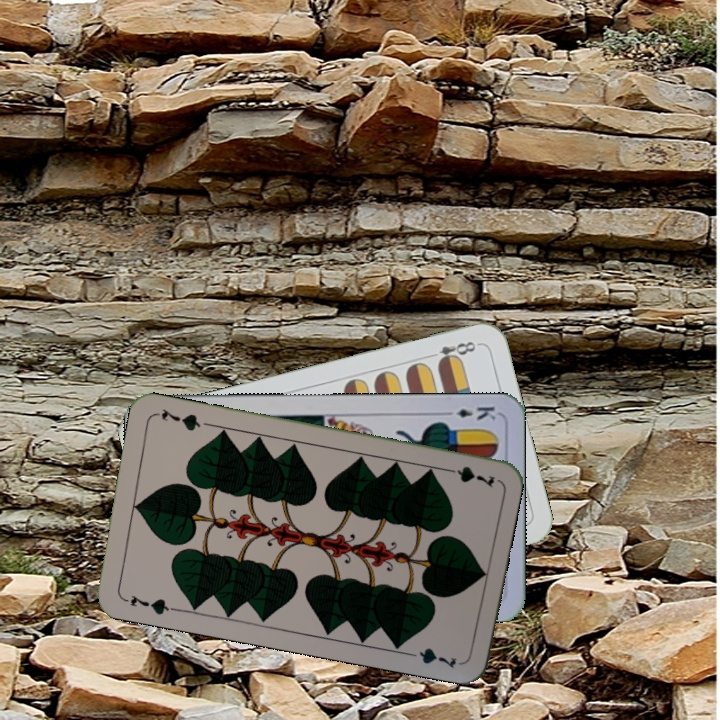E8: (423, 337, 481, 368)
EK: (439, 402, 498, 422)
G7: (439, 462, 498, 490), (119, 590, 178, 617)
